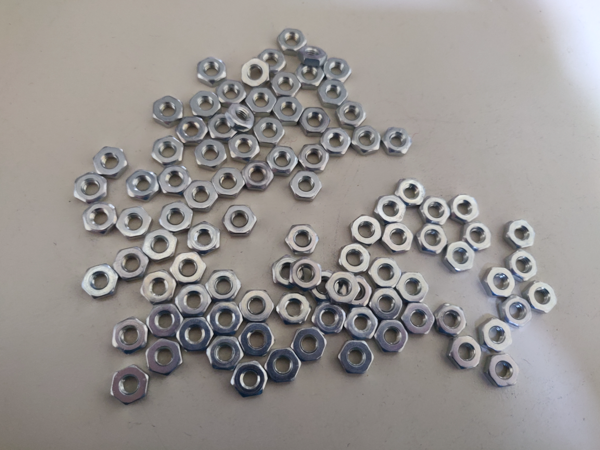nut: (111, 365, 151, 405), (145, 304, 185, 344), (446, 336, 484, 374), (147, 341, 184, 380), (232, 360, 269, 399), (206, 299, 246, 335), (369, 285, 405, 324), (112, 318, 148, 356), (82, 264, 118, 302), (140, 270, 178, 305), (178, 318, 215, 353), (481, 265, 518, 300), (112, 247, 152, 279), (265, 348, 300, 384), (403, 303, 438, 339), (169, 250, 206, 284), (206, 337, 240, 373), (486, 354, 522, 388), (142, 229, 180, 261), (325, 272, 360, 306), (222, 204, 258, 237), (502, 218, 539, 250), (205, 270, 244, 300), (286, 224, 320, 258), (193, 139, 228, 172), (337, 342, 373, 374), (376, 318, 408, 354), (288, 258, 323, 290), (240, 55, 272, 90), (175, 283, 211, 314), (499, 296, 535, 327), (287, 170, 323, 201), (435, 303, 468, 336), (479, 318, 513, 350), (344, 308, 379, 339), (160, 201, 195, 232), (524, 281, 559, 312), (239, 325, 275, 355), (338, 244, 374, 274), (84, 204, 117, 236), (242, 160, 275, 192), (94, 146, 129, 176), (253, 116, 288, 146), (190, 88, 225, 118), (445, 241, 476, 274), (229, 131, 260, 164), (188, 222, 222, 252), (118, 207, 152, 237), (507, 250, 541, 280), (348, 215, 383, 244), (373, 195, 408, 224), (73, 174, 109, 202), (294, 331, 325, 363), (396, 177, 428, 208), (184, 182, 217, 212), (299, 108, 332, 138), (296, 143, 330, 172), (277, 297, 312, 325), (380, 224, 415, 252), (212, 169, 247, 197), (242, 290, 273, 321), (125, 169, 155, 201), (158, 167, 193, 194), (152, 96, 182, 127), (382, 127, 413, 157), (271, 71, 302, 101), (418, 225, 450, 254), (312, 305, 345, 333), (371, 258, 402, 287), (176, 116, 207, 145), (343, 278, 375, 306), (317, 79, 351, 105), (274, 259, 304, 288), (352, 128, 382, 157), (258, 46, 288, 75), (398, 273, 429, 301), (335, 100, 366, 128), (226, 103, 257, 131), (462, 223, 494, 250), (152, 137, 184, 164), (278, 27, 311, 53), (308, 274, 338, 302), (273, 95, 303, 123), (247, 86, 279, 112), (210, 114, 243, 139), (217, 79, 248, 105), (195, 58, 228, 82), (299, 62, 327, 90), (322, 129, 354, 153), (269, 146, 298, 172), (454, 193, 481, 220), (325, 56, 353, 80), (424, 197, 453, 219)
